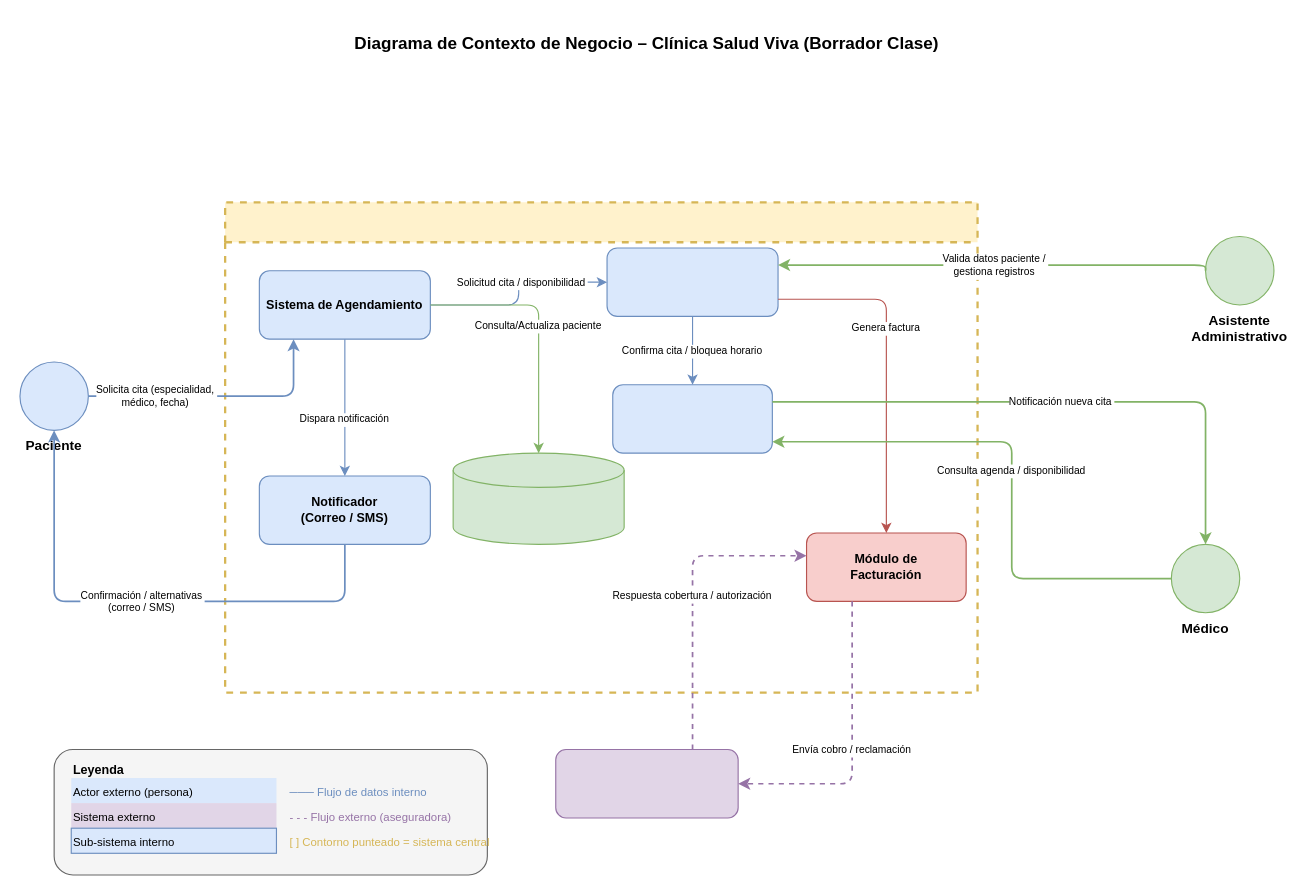
Some shapes in this 1308 by 895 pixel diagram are drawn without their labels. Each missing label, with the box of its shape:
Agenda Médica: (612, 384, 772, 453)
Aseguradora (Sistema Externo): (555, 748, 738, 818)
BD Central de Pacientes: (452, 452, 624, 544)
ERP Clínico: (606, 247, 778, 316)
SISTEMA DE GESTIÓN CLÍNICA: (223, 201, 978, 693)
